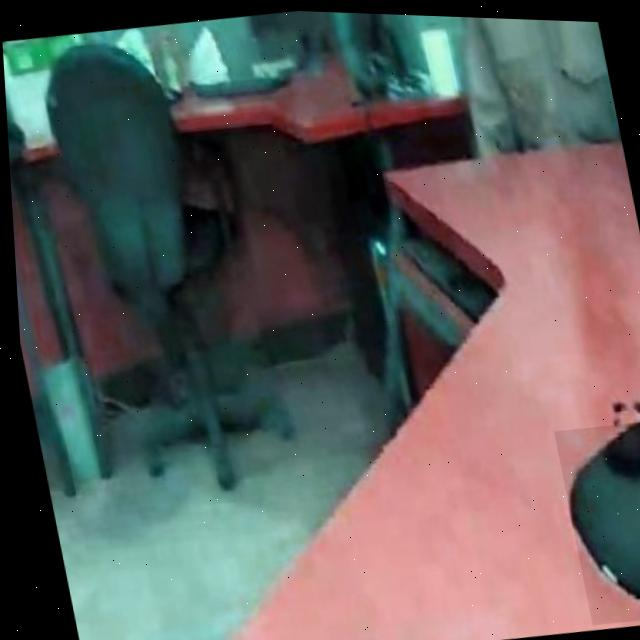spillage: (562, 419, 640, 600)
